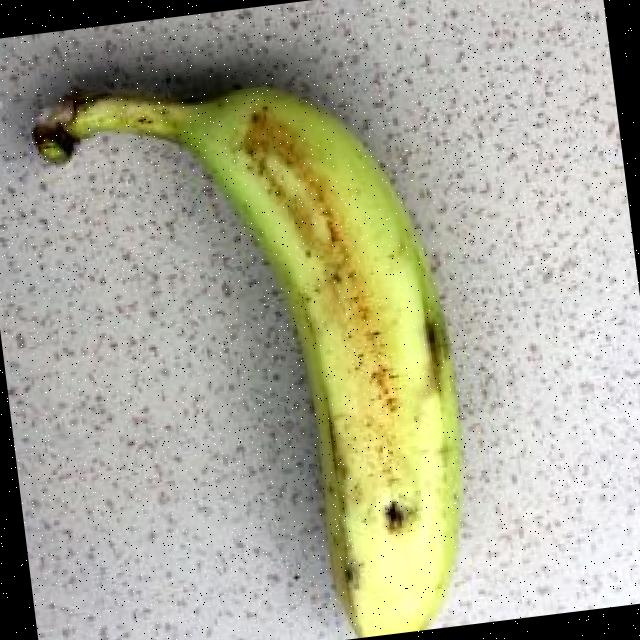banana: (15, 86, 458, 638)
